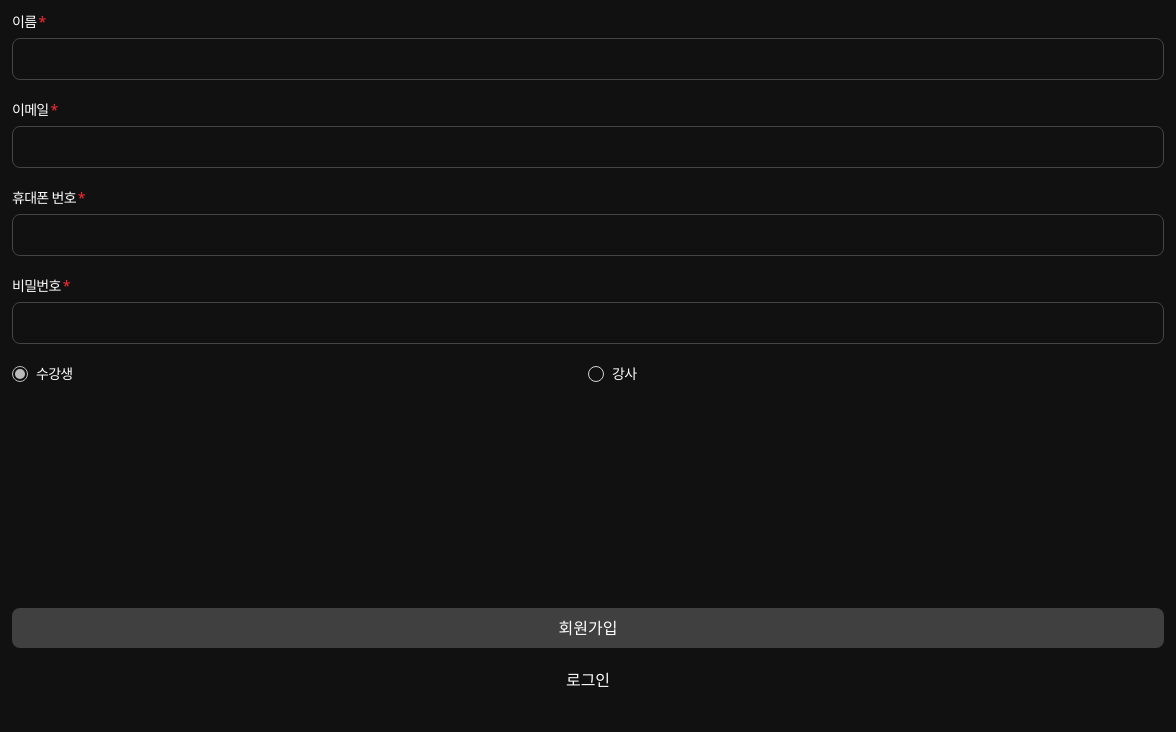
Test case: 시나리오 2: 회원가입 (/signup) › 유효성 검사 › 비밀번호가 형식에 맞지 않으면 에러 메시지를 보여준다
This screenshot has width=1176, height=732.
Type "홍길동" into the field labelled "이름*" at (588, 59), box left=12, top=38, right=1164, bottom=80
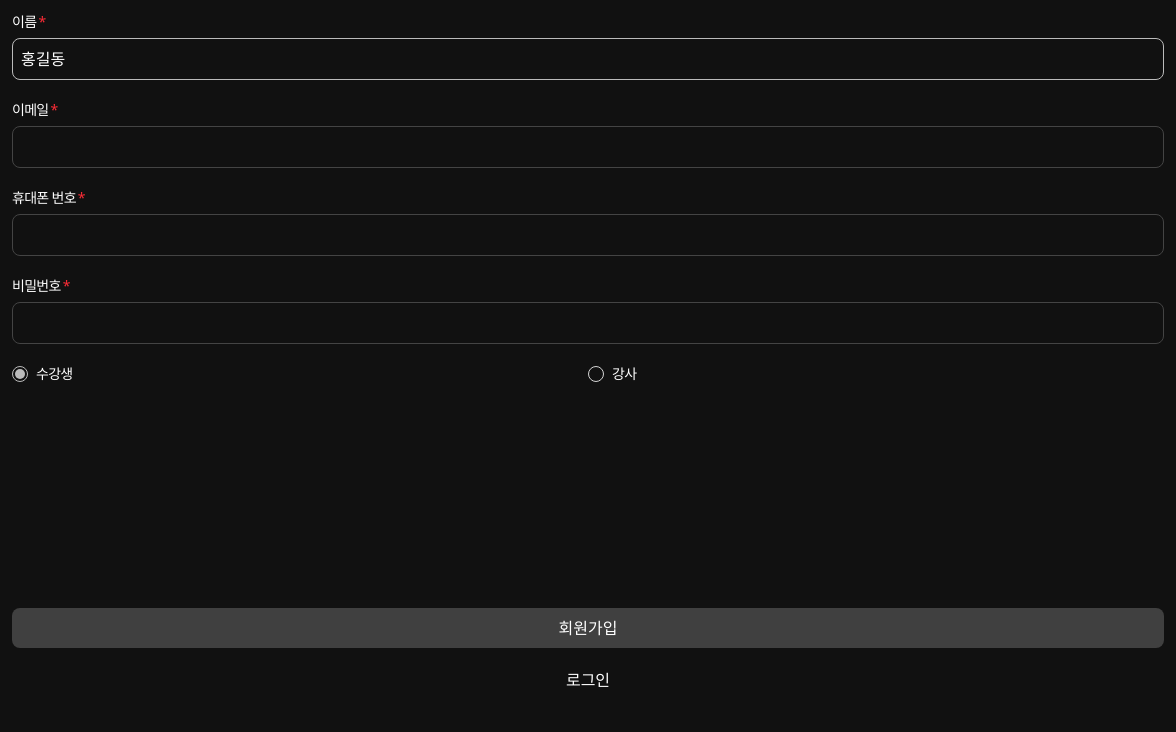
Type "user@example.com" into the field labelled "이메일*" at (588, 147), box left=12, top=126, right=1164, bottom=168
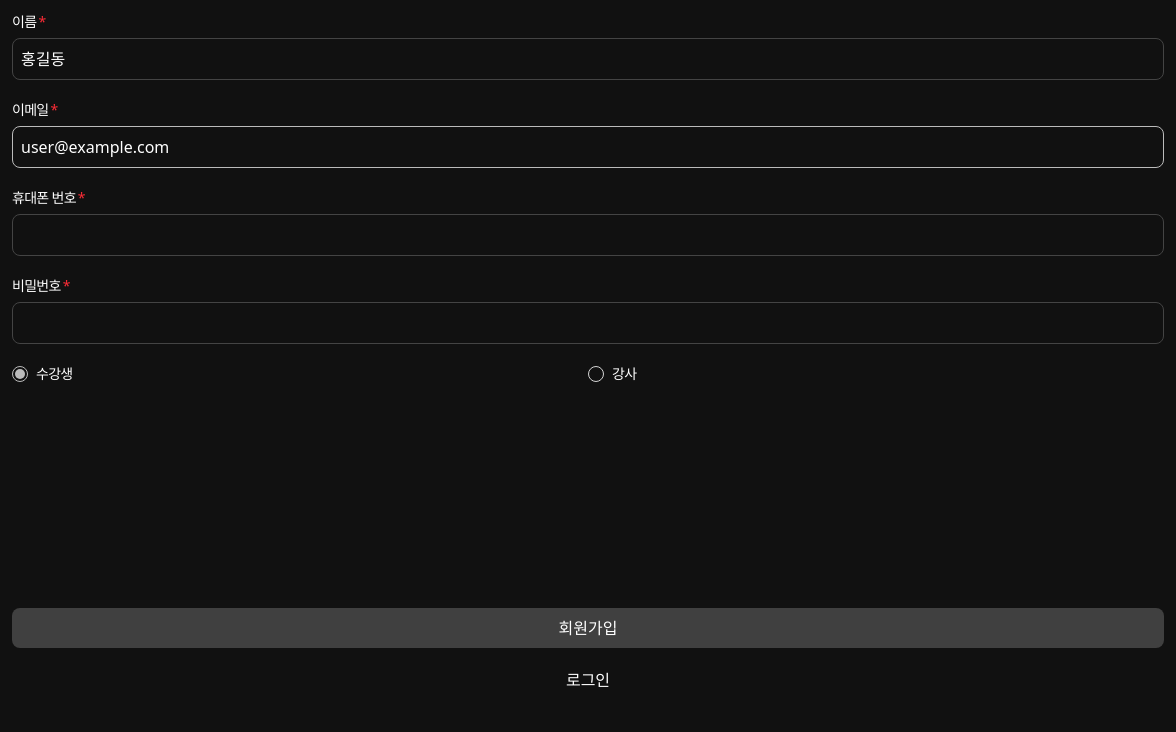
Type "010-1234-5678" into the field labelled "휴대폰 번호*" at (588, 235), box left=12, top=214, right=1164, bottom=256
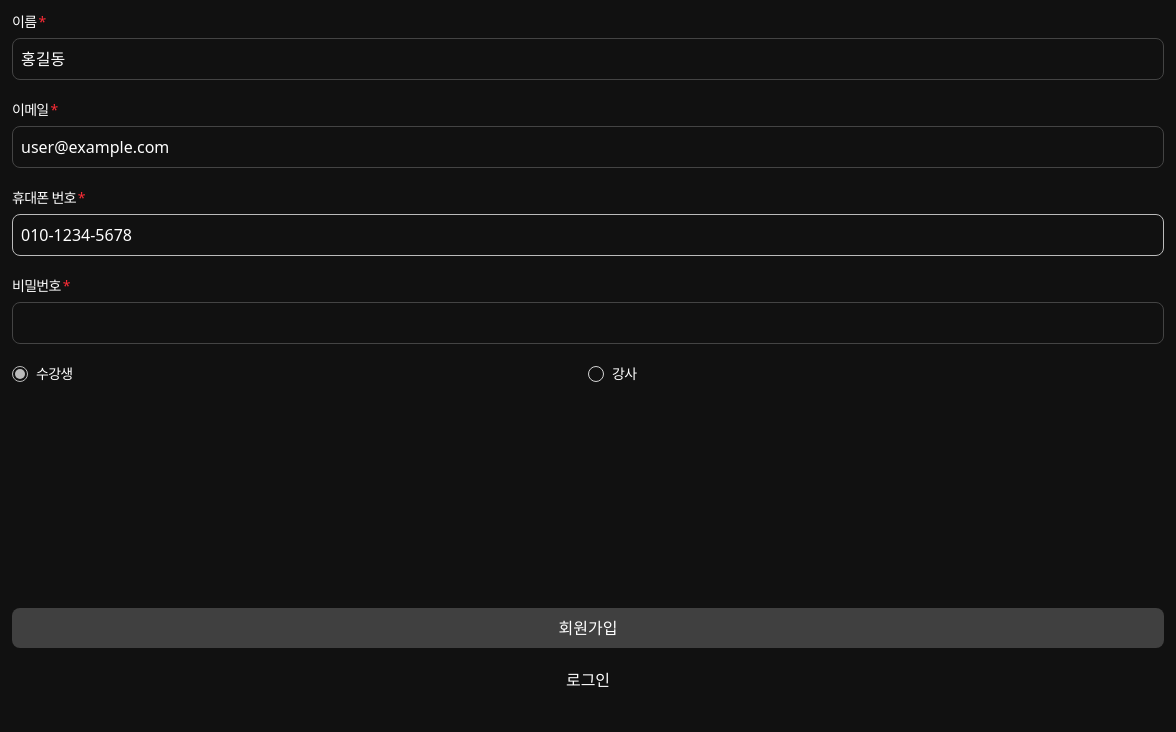
Type "short" into the password field labelled "비밀번호*" at (588, 323), box left=12, top=302, right=1164, bottom=344
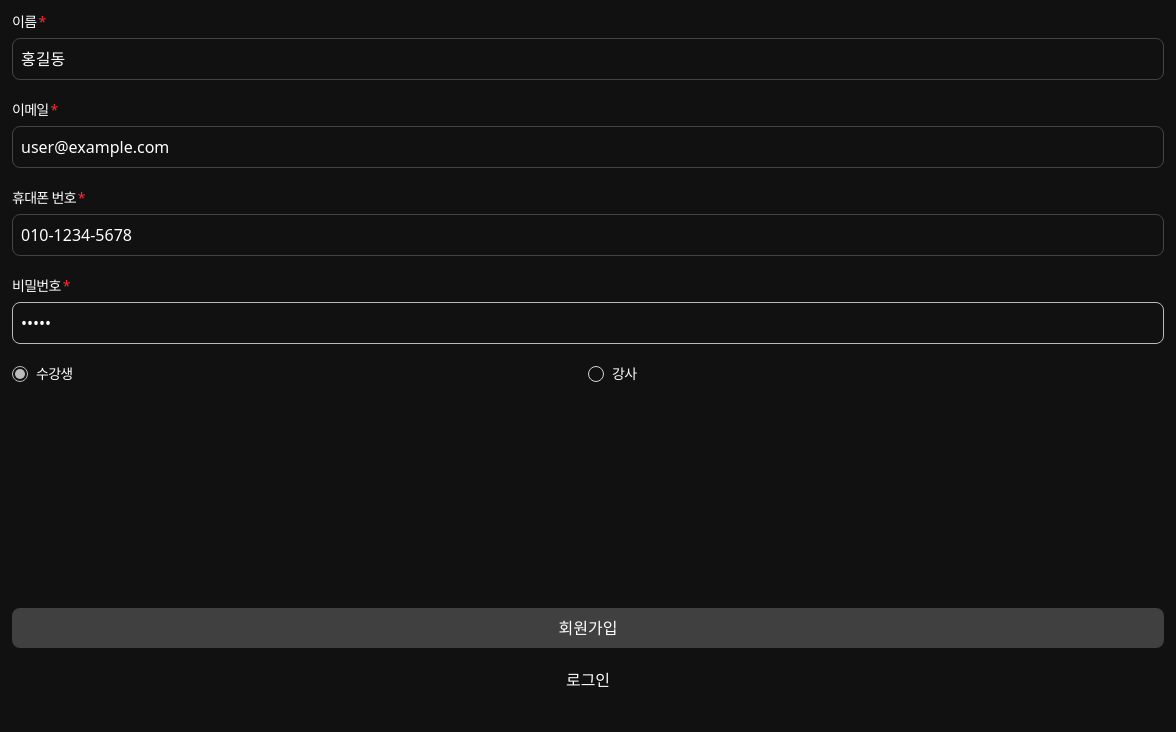
Click the button "회원가입" at (588, 628), box left=12, top=608, right=1164, bottom=648
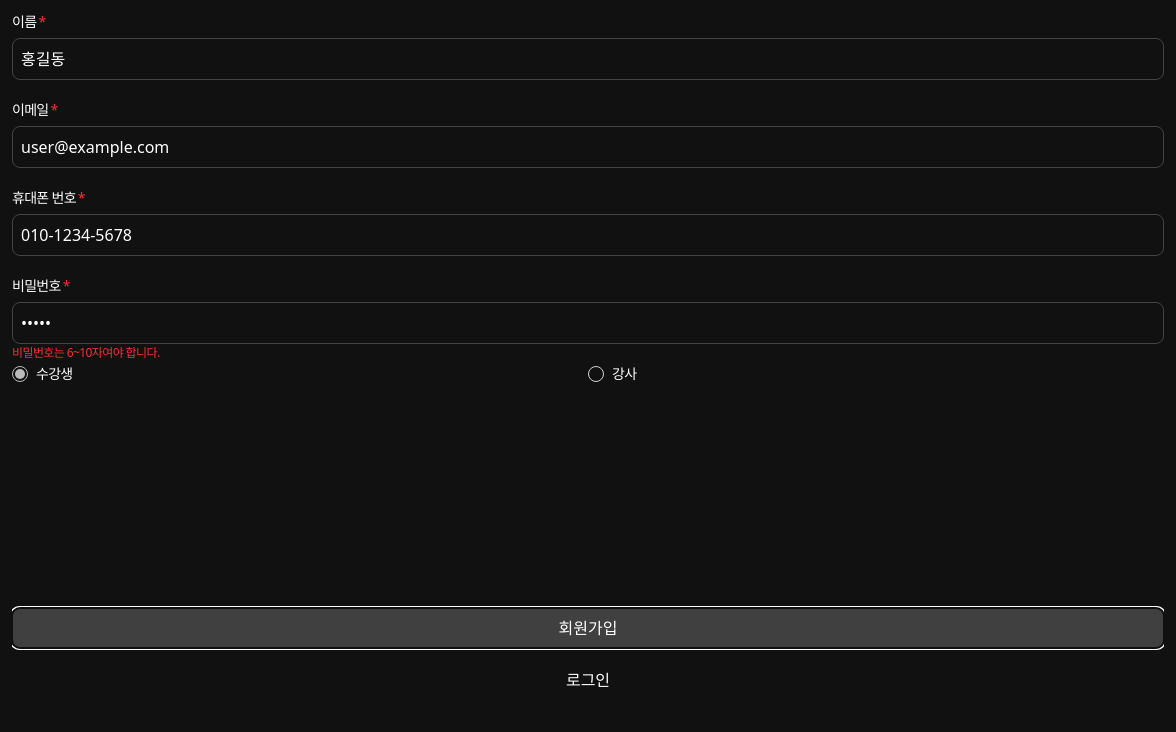
Result: the text "비밀번호는 6~10자여야 합니다." is shown at left=12, top=344, right=160, bottom=362
